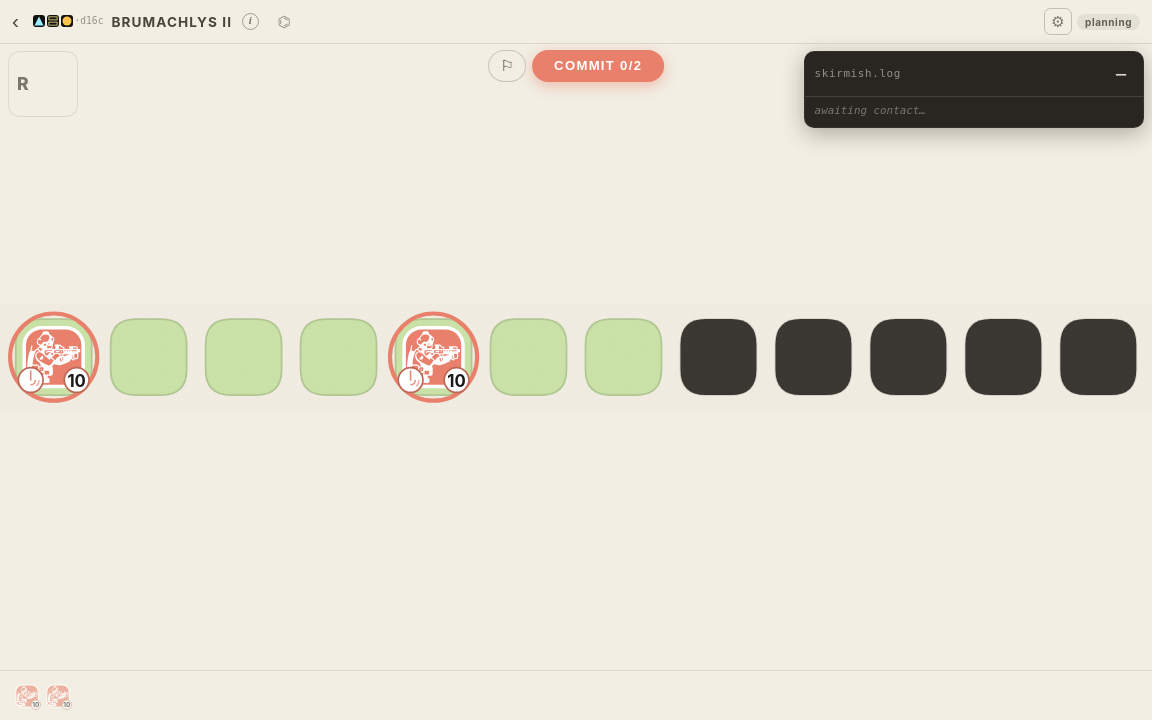
Scenario: TopCta in the battle screen (App integration) › commit with ZERO orders asks "Commit 0 moves?" — Back keeps planning, Commit resolves
Click the button with test id "commit-button" at {"x": 598, "y": 66}, box left=532, top=50, right=664, bottom=82
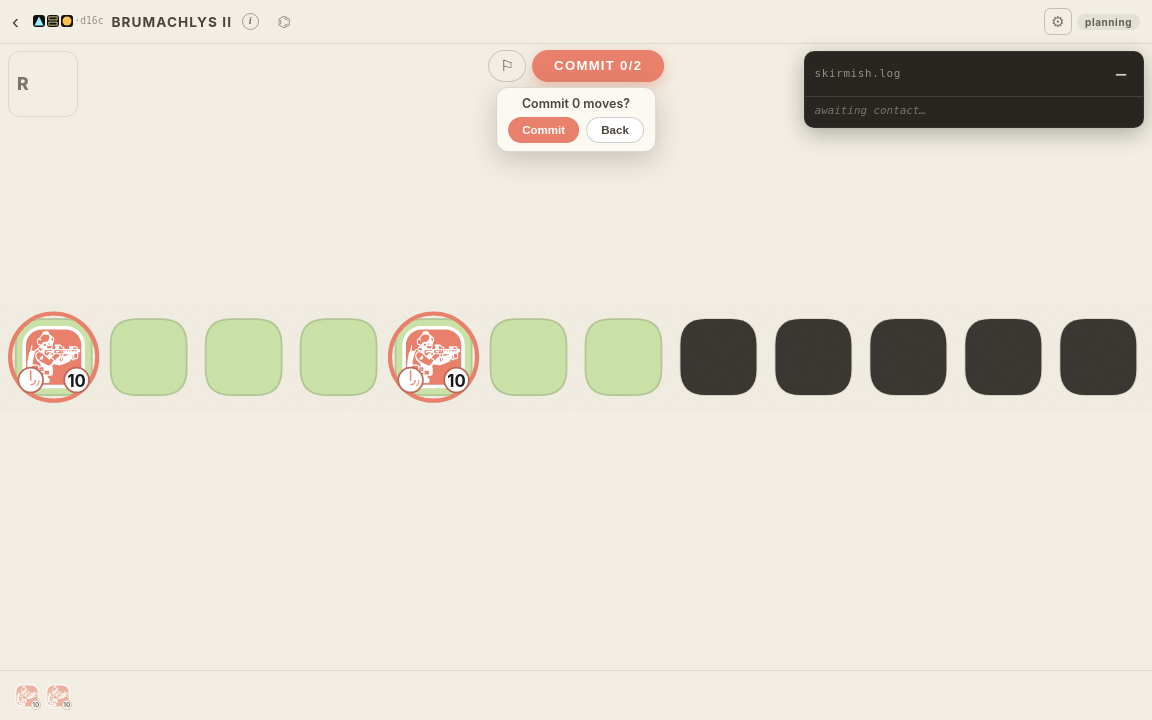
Expected: the text "planning" is shown, left=1077, top=14, right=1140, bottom=30
Expected: the dialog with test id "commit-confirm" shows "Commit 0 moves?", left=522, top=96, right=630, bottom=111
Click the button with test id "confirm-back" at {"x": 615, "y": 130}, box left=586, top=117, right=644, bottom=143
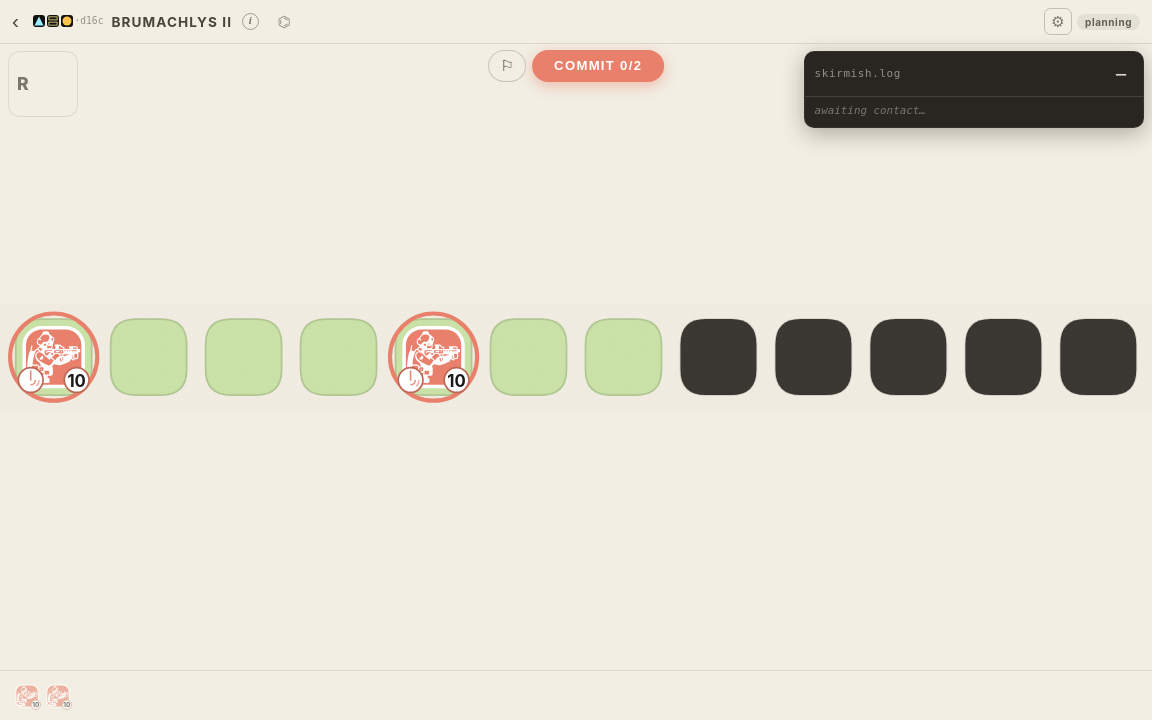
Expected: the text "planning" is shown, left=1077, top=14, right=1140, bottom=30
Expected: the dialog with test id "commit-confirm" is gone
Click the button with test id "commit-button" at {"x": 598, "y": 66}, box left=532, top=50, right=664, bottom=82
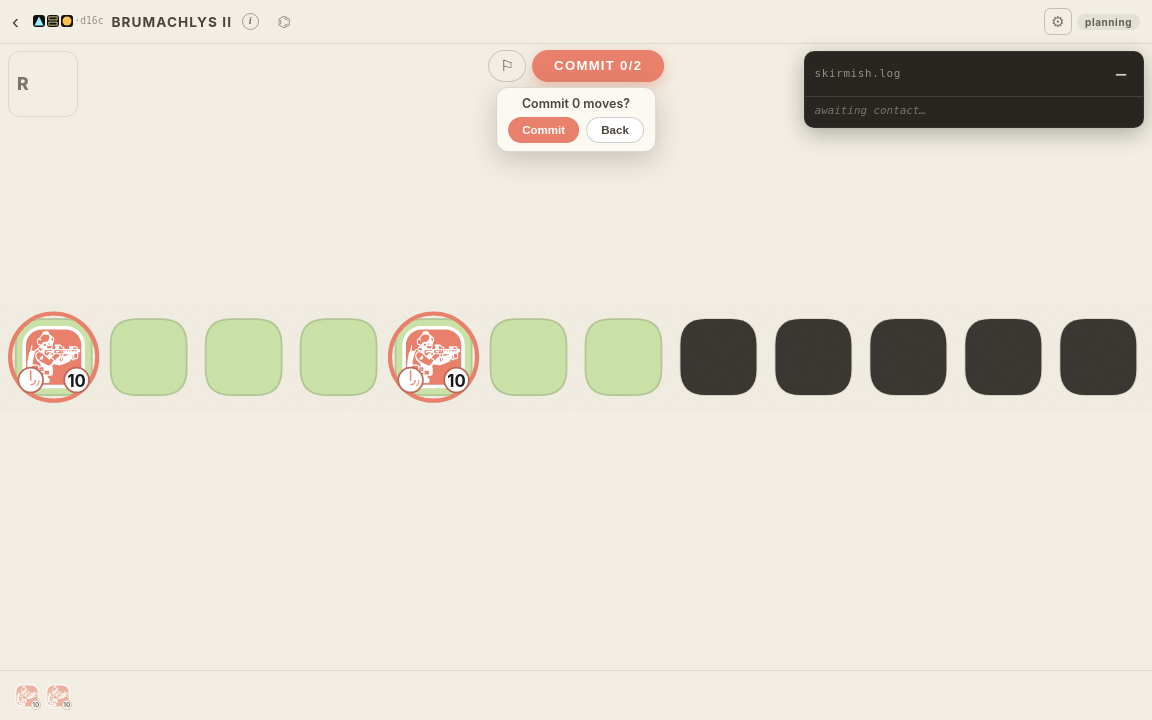
Click the button with test id "confirm-commit" at {"x": 544, "y": 130}, box left=508, top=117, right=580, bottom=143
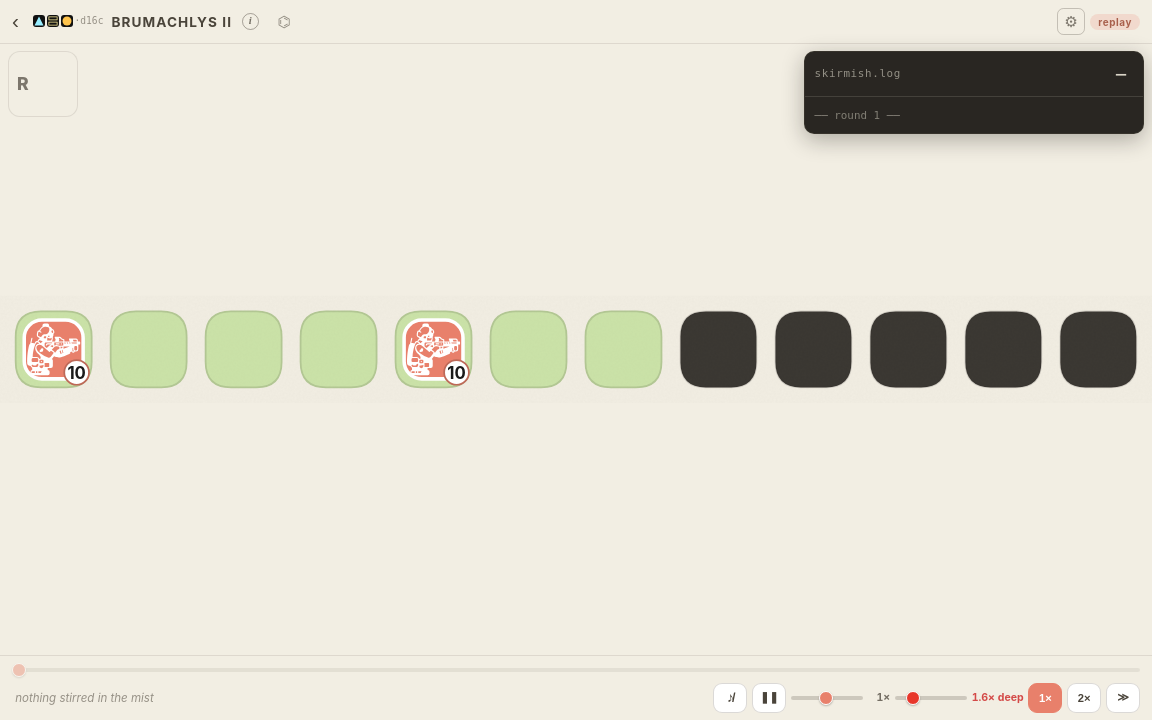
Expected: the text "replay" is shown, left=1090, top=14, right=1140, bottom=30
